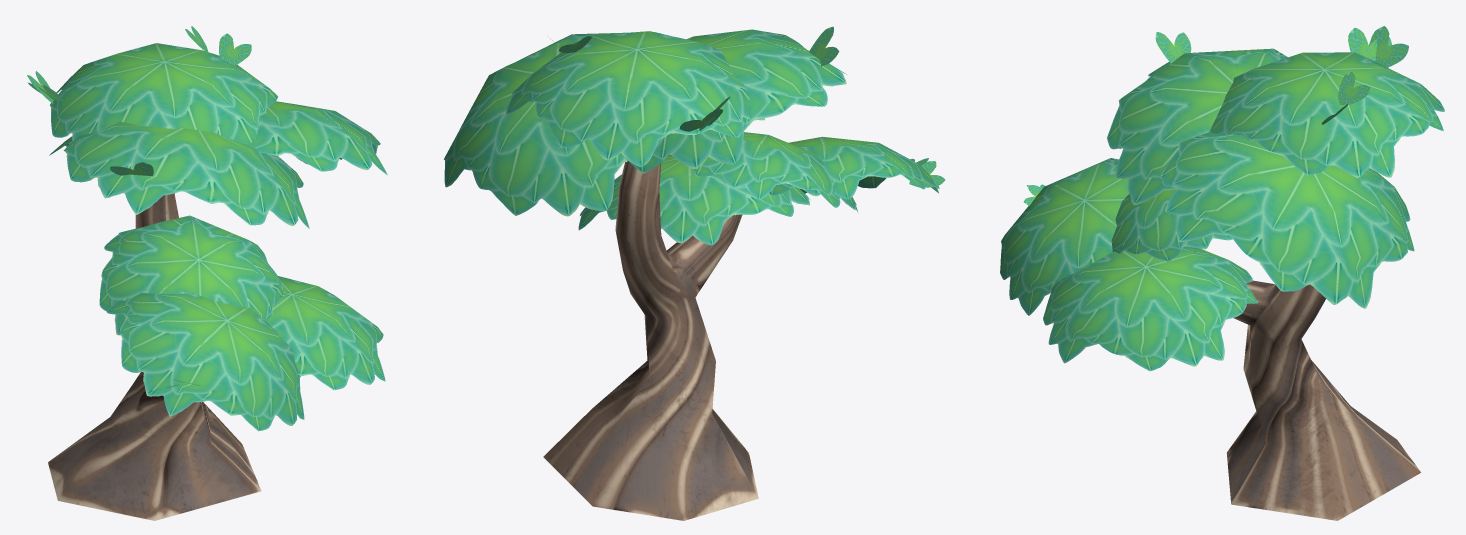
The model's file is Tree3.fbx.
3 views of the same model, side by side, from view 1: azimuth 30°, elevation 25°; view 2: azimuth 150°, elevation 25°; view 3: azimuth 270°, elevation 25° (orthographic). The views are drawn at different scales.
Visible parts, largest first — view 1: treelp2; view 2: treelp2; view 3: treelp2.
Boxes of the visible parts, x1,y1,x2,y2 form: treelp2: [27, 26, 387, 520]; treelp2: [444, 26, 945, 520]; treelp2: [1000, 26, 1444, 520].
Bounding box in the file's own units: 1000 × 1103 × 1080.
